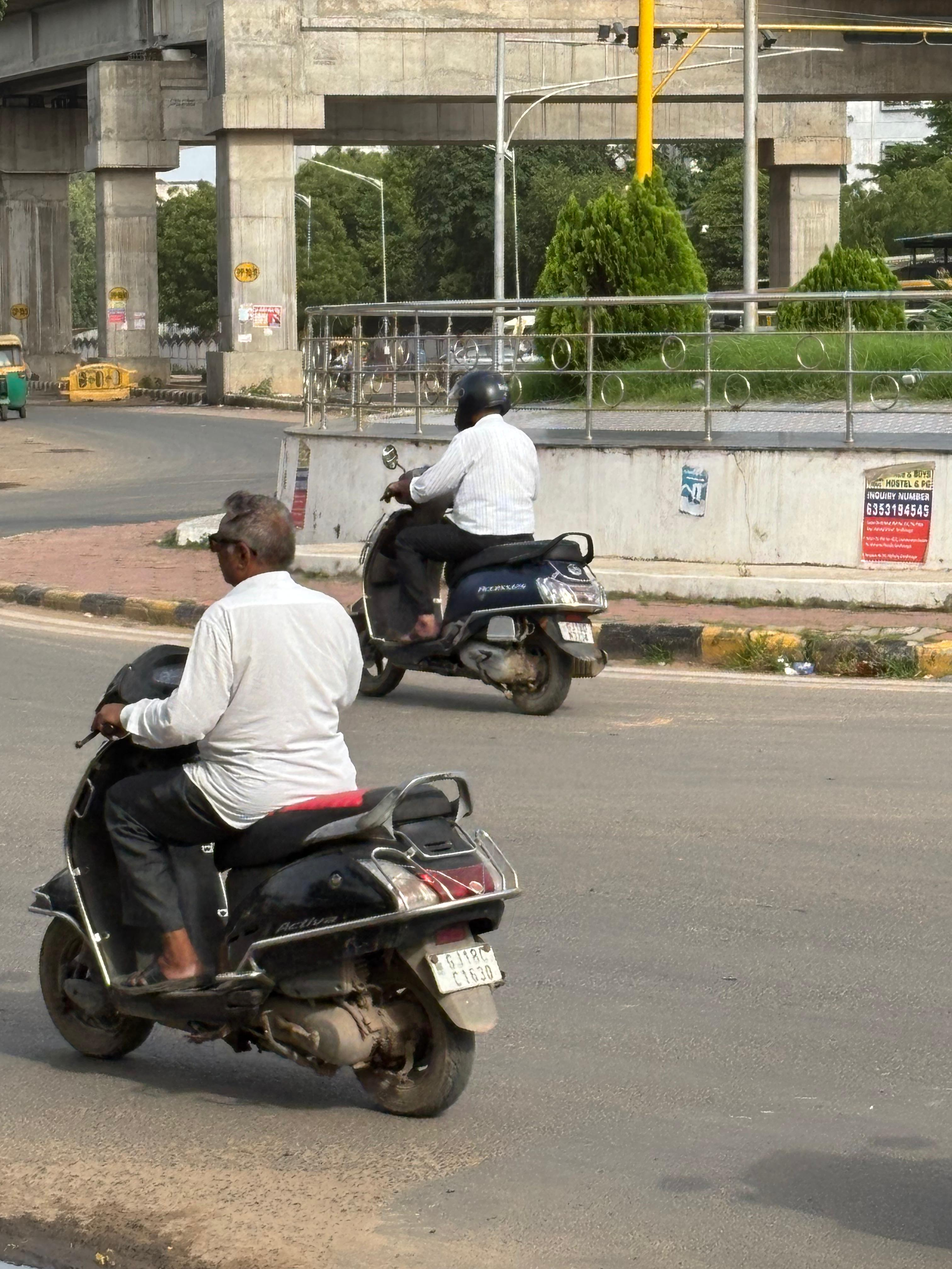BikeWithRider: (24, 490, 525, 1121), (335, 363, 611, 718)
Helmet: (447, 367, 518, 435)
NoHelmet: (208, 488, 298, 593)
